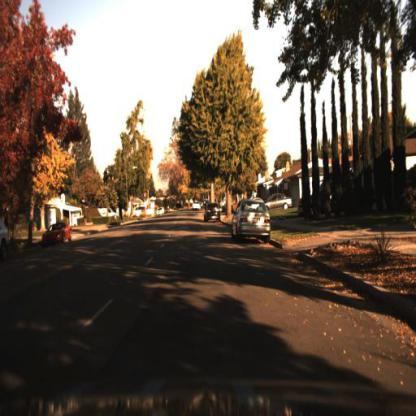car: (231, 195, 273, 246), (40, 221, 77, 247), (265, 192, 296, 213), (204, 199, 222, 226)
